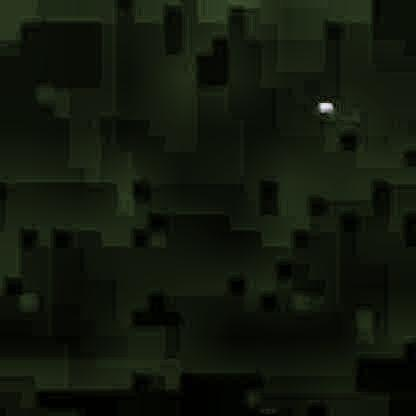golfball: (316, 98, 333, 113)
